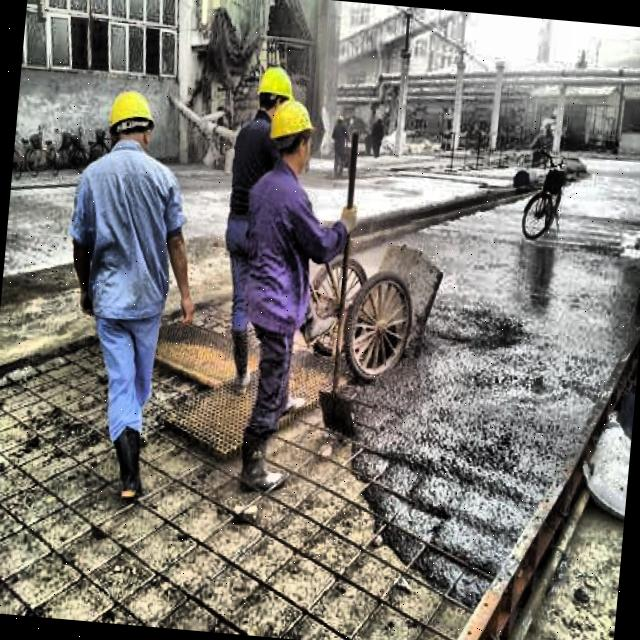helmet: (100, 81, 161, 157), (270, 98, 318, 174), (253, 64, 294, 120)
